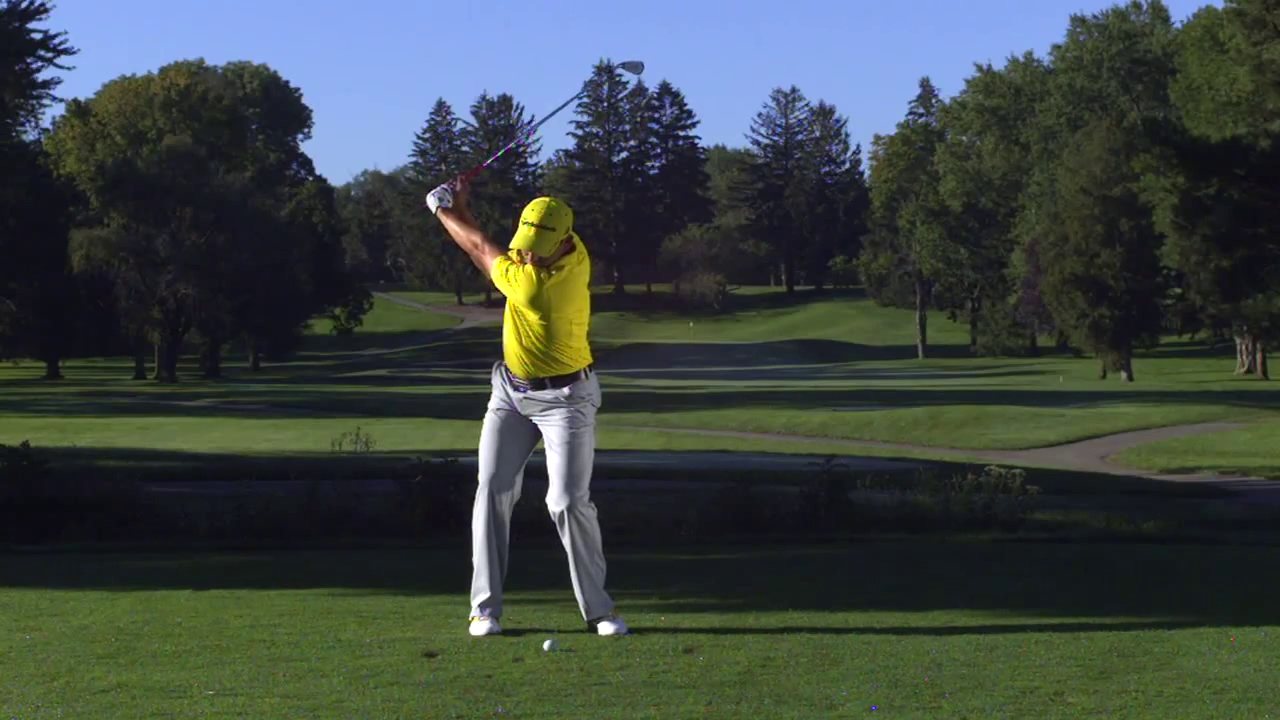person: (425, 175, 627, 636)
